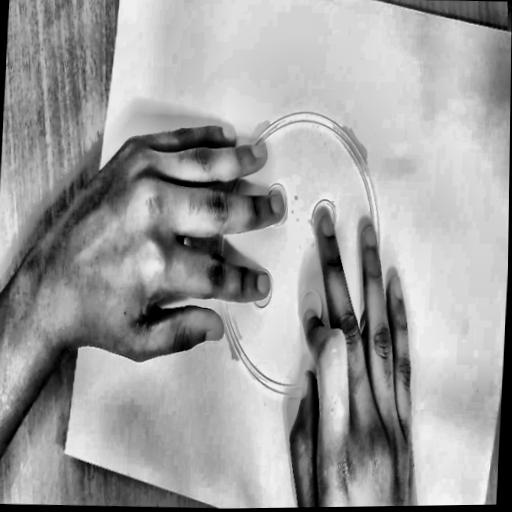bottom_right: (59, 445, 68, 460)
button: (181, 72, 410, 441)
